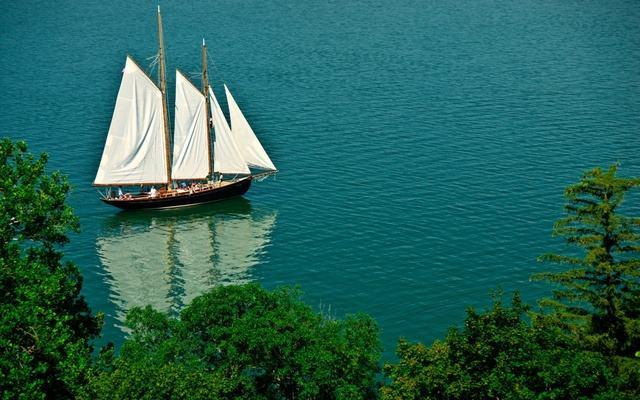fanchuan: (90, 9, 281, 214)
